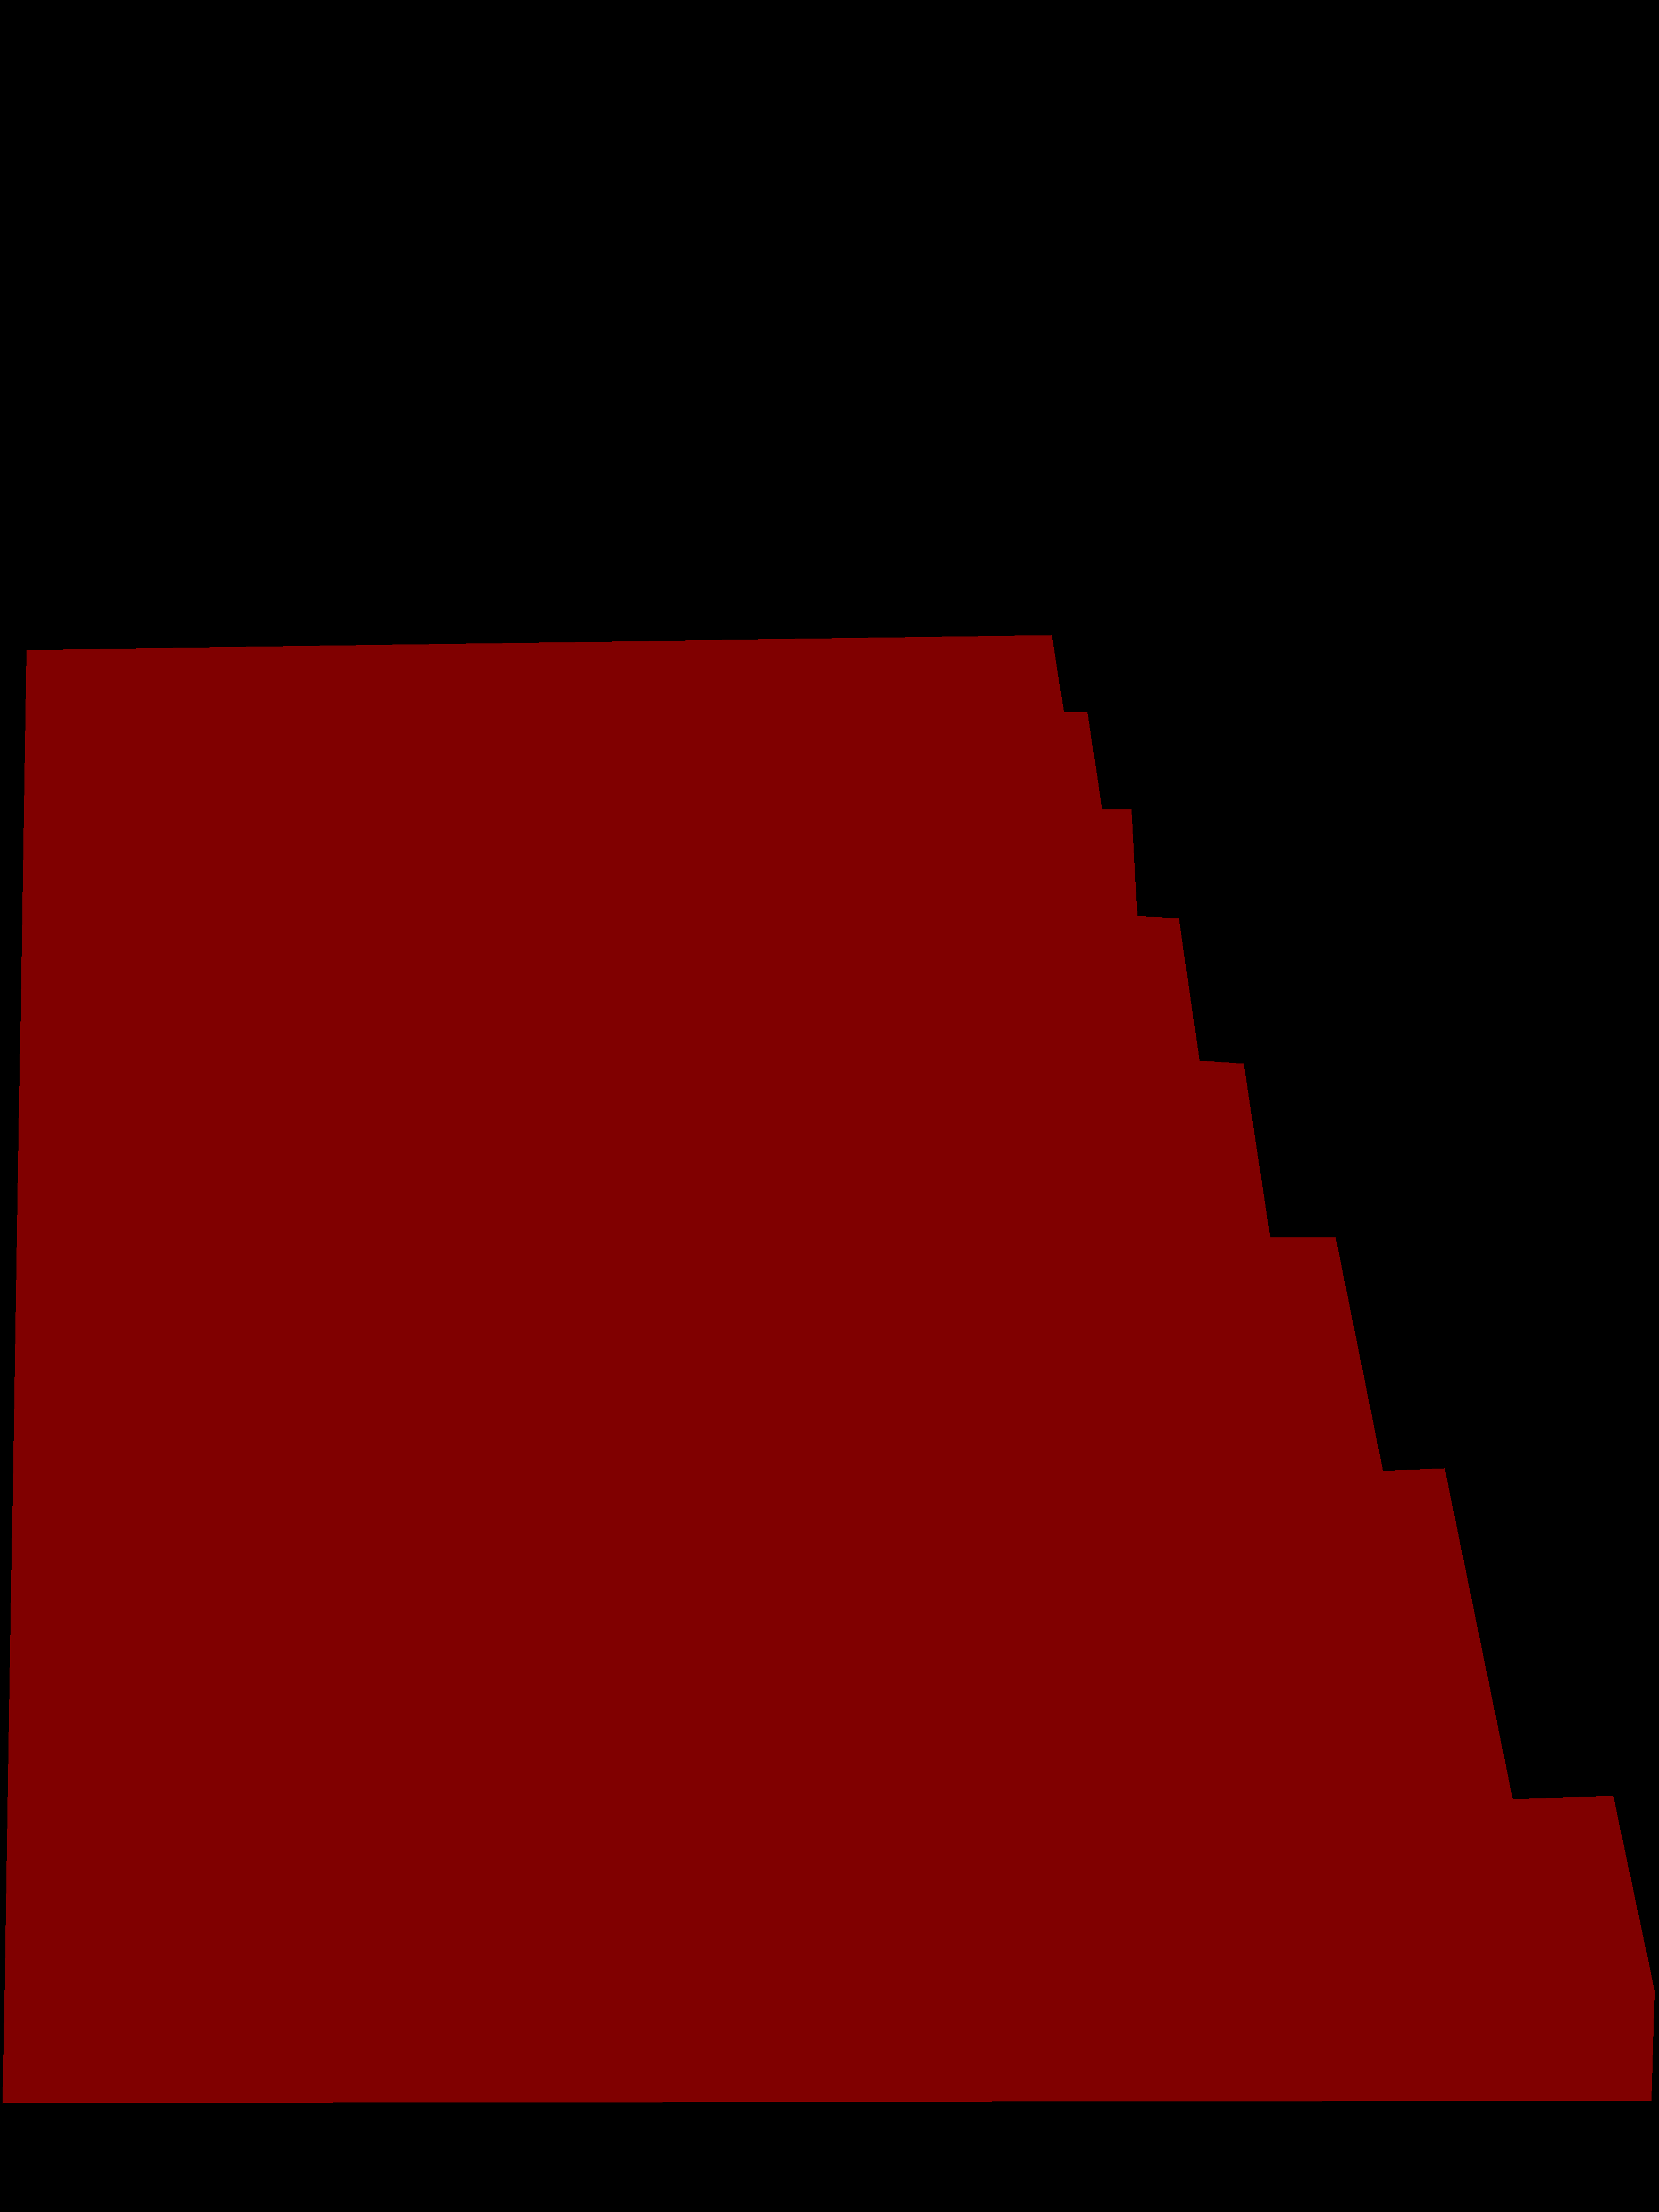stair: (3, 636, 1654, 2102)
